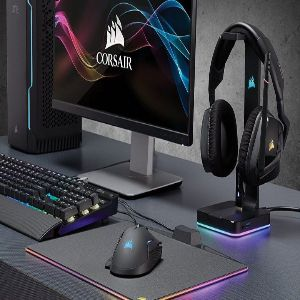headset: (203, 18, 283, 185)
keyboard: (1, 150, 117, 239)
mouse: (114, 221, 162, 277)
